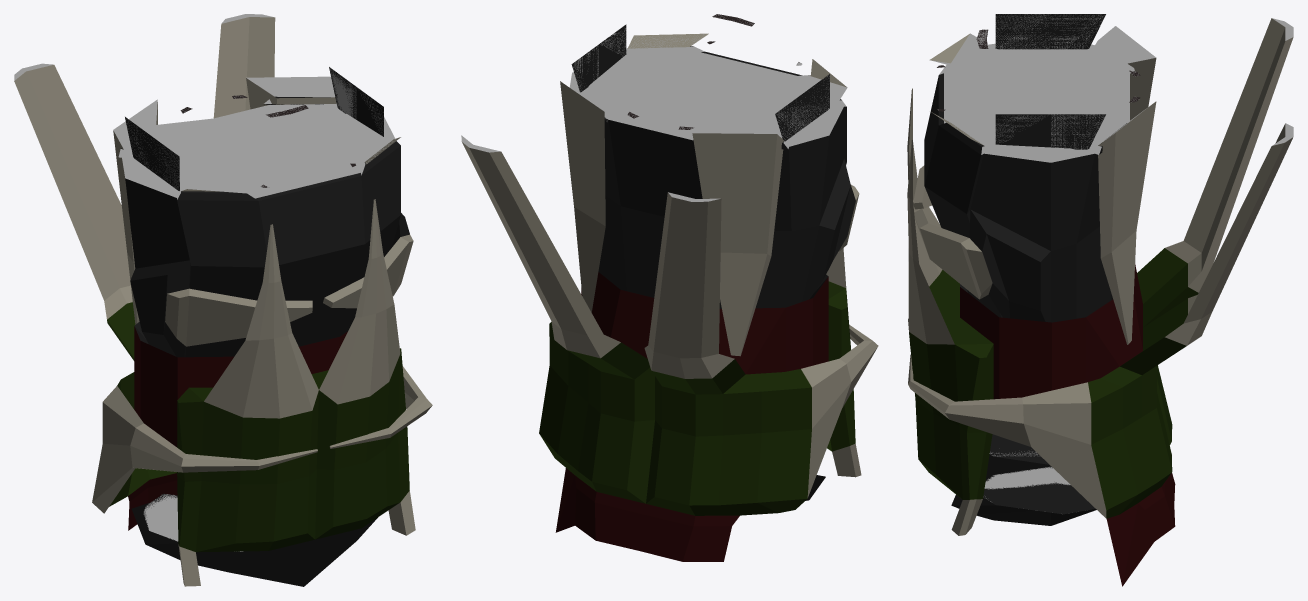
File: MageTorso.fbx
3 views of the same model, side by side, from view 1: azimuth 30°, elevation 25°; view 2: azimuth 150°, elevation 25°; view 3: azimuth 270°, elevation 25° (orthographic).
Visible parts, largest first — view 1: EvilWizard; view 2: EvilWizard; view 3: EvilWizard.
Part boxes in pixels (box(x1,y1,x2,y2)): EvilWizard: box(14, 14, 432, 586); EvilWizard: box(461, 14, 878, 561); EvilWizard: box(907, 14, 1293, 586).
Bounding box in the file's own units: 3.52 × 4.26 × 6.
